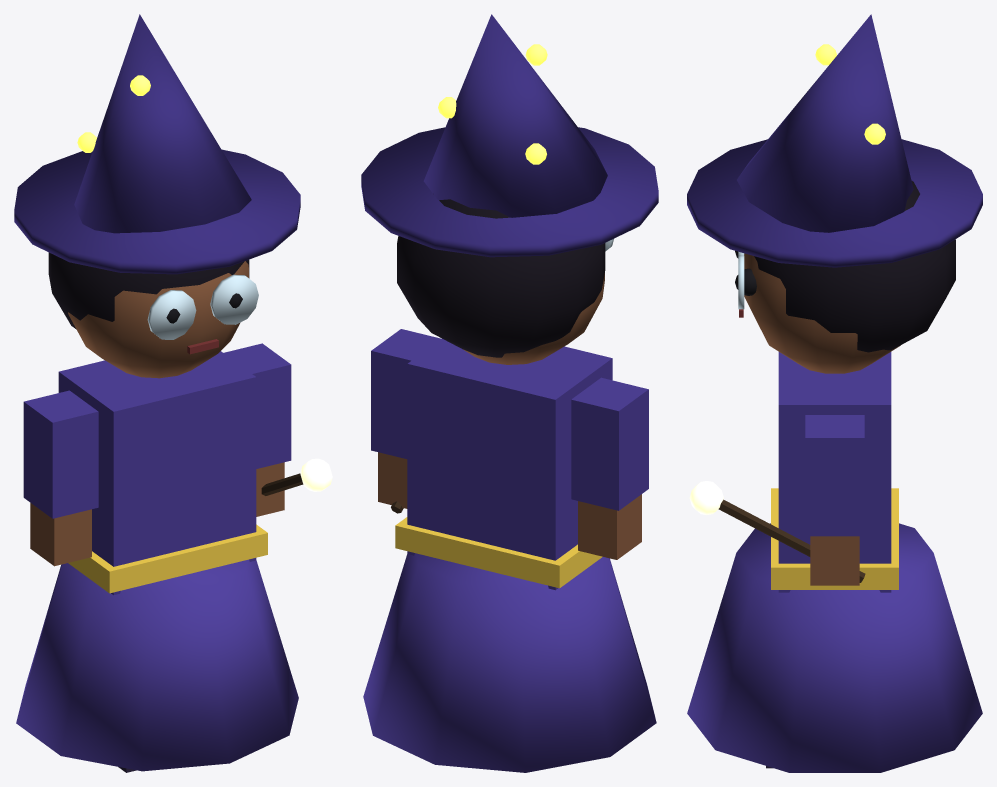
The model's file is kid_iris.glb.
3 views of the same model, side by side, from view 1: azimuth 30°, elevation 25°; view 2: azimuth 150°, elevation 25°; view 3: azimuth 270°, elevation 25° (orthographic). The views are drawn at different scales.
Visible parts, largest first — view 1: robe, torso, hat, brim, sleeve, skull, hair, sash, sleeve.001, hand, lens, lens.001 (+2 smaller); view 2: robe, torso, hat, brim, hair, sleeve, sash, sleeve.001, hand, skull, hand.001; view 3: robe, hat, brim, torso, hair, sleeve.001, skull, sash, hand.001, wand, glow_wand.
Part boxes in pixels (left/top/right/bottom): robe: left=16, top=559, right=298, bottom=771; torso: left=58, top=351, right=256, bottom=595; hat: left=74, top=14, right=251, bottom=233; brim: left=14, top=149, right=300, bottom=274; sleeve: left=23, top=390, right=98, bottom=518; skull: left=68, top=261, right=248, bottom=378; hair: left=48, top=252, right=249, bottom=329; sash: left=68, top=524, right=267, bottom=593; sleeve.001: left=224, top=343, right=291, bottom=468; hand: left=30, top=503, right=91, bottom=566; lens: left=147, top=290, right=196, bottom=339; lens.001: left=210, top=274, right=258, bottom=324; robe: left=363, top=553, right=656, bottom=772; torso: left=407, top=338, right=612, bottom=590; hat: left=423, top=14, right=607, bottom=217; brim: left=361, top=127, right=658, bottom=257; hair: left=397, top=199, right=605, bottom=357; sleeve: left=571, top=377, right=648, bottom=510; sash: left=395, top=517, right=602, bottom=588; sleeve.001: left=371, top=329, right=441, bottom=458; hand: left=578, top=494, right=641, bottom=559; skull: left=463, top=273, right=604, bottom=364; hand.001: left=378, top=452, right=407, bottom=508; robe: left=687, top=523, right=982, bottom=772; hat: left=737, top=14, right=913, bottom=232; brim: left=687, top=139, right=982, bottom=267; torso: left=778, top=352, right=891, bottom=592; hair: left=754, top=181, right=955, bottom=352; sleeve.001: left=805, top=415, right=864, bottom=536; skull: left=744, top=253, right=900, bottom=373; sash: left=771, top=488, right=898, bottom=589; hand.001: left=810, top=536, right=859, bottom=585; wand: left=718, top=499, right=865, bottom=582; glow_wand: left=689, top=481, right=723, bottom=514.
Size of the model in its own units: 0.6 by 1.62 by 0.6.
